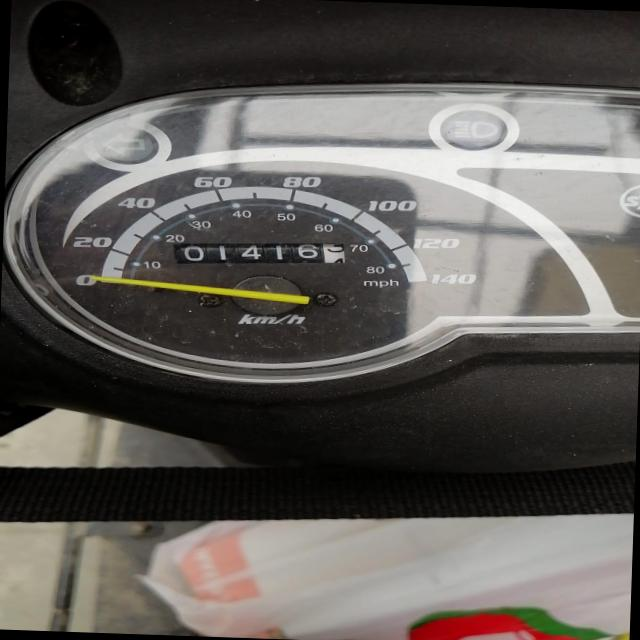odometer: (172, 235, 348, 272)
